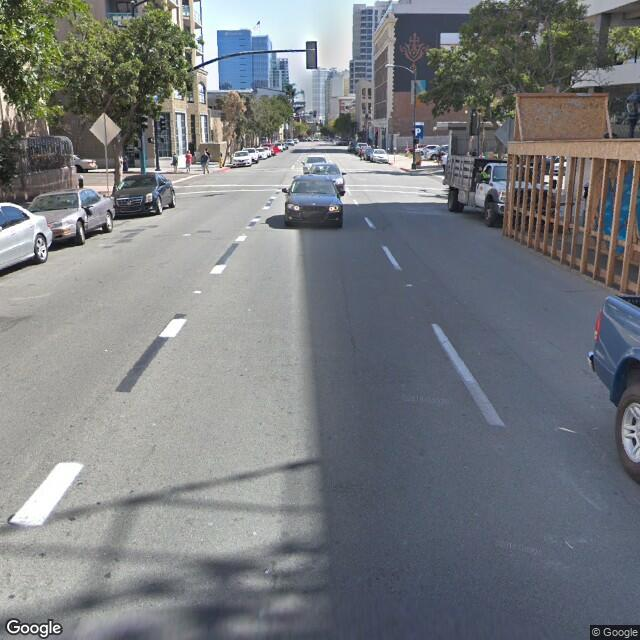road line: (12, 314, 191, 518), (368, 236, 530, 440)
